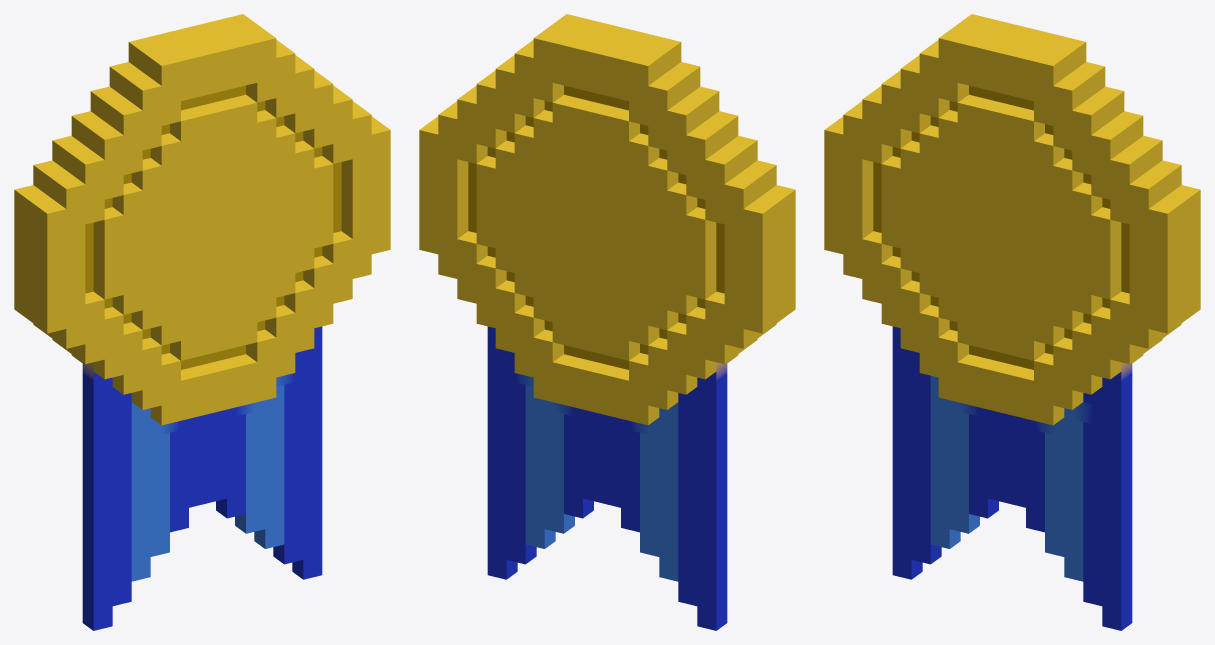
The model's file is Achievements.dae.
The picture shows the model from 3 angles, left to right: view 1: azimuth 30°, elevation 25°; view 2: azimuth 150°, elevation 25°; view 3: azimuth 330°, elevation 25°; orthographic projection.
Parts seen in each view (by area): view 1: Matrix; view 2: Matrix; view 3: Matrix.
Part boxes in pixels (<box>): Matrix: <box>14,14,390,630</box>; Matrix: <box>419,14,795,630</box>; Matrix: <box>824,14,1200,630</box>.
Size of the model in its own units: 18 by 28 by 3.
1 material, 1 textured.
